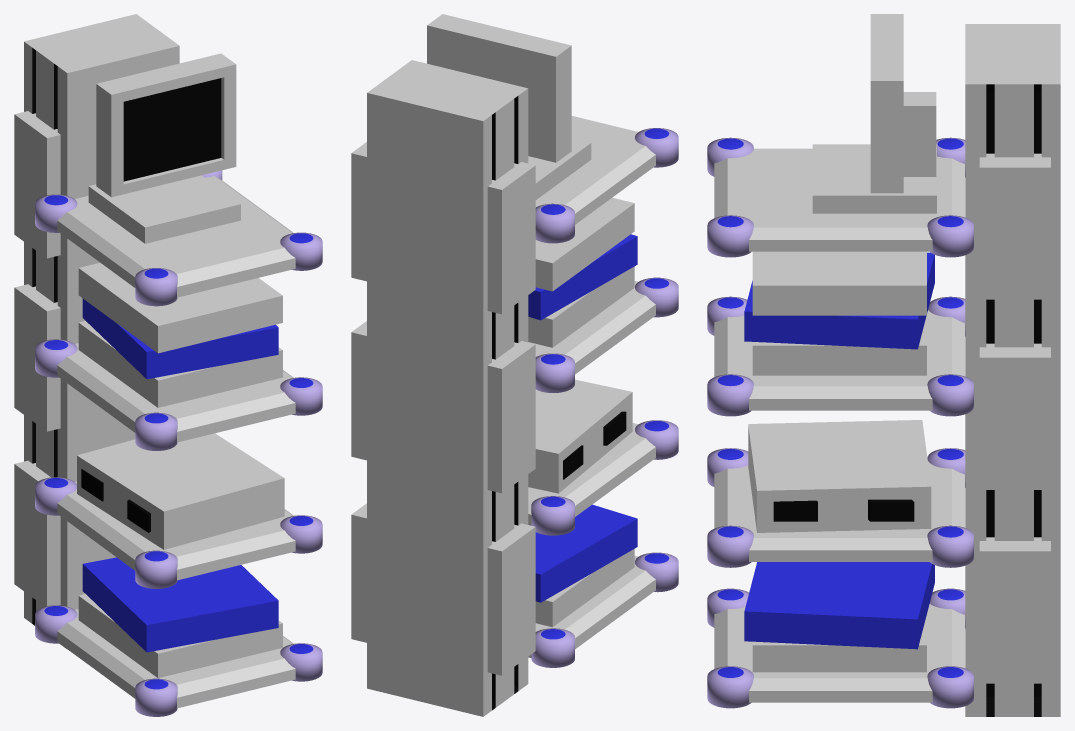
Rendered from shelfunit.fbx.
The picture shows the model from 3 angles, left to right: view 1: azimuth 30°, elevation 25°; view 2: azimuth 150°, elevation 25°; view 3: azimuth 270°, elevation 25°; orthographic projection. The views are drawn at different scales.
Visible parts, largest first — view 1: Cube; view 2: Cube; view 3: Cube.
Part boxes in pixels (<box>): Cube: <box>14,14,322,716</box>; Cube: <box>351,14,678,716</box>; Cube: <box>707,14,1060,716</box>.
Size of the model in its own units: 1393 by 4294 by 2136.
